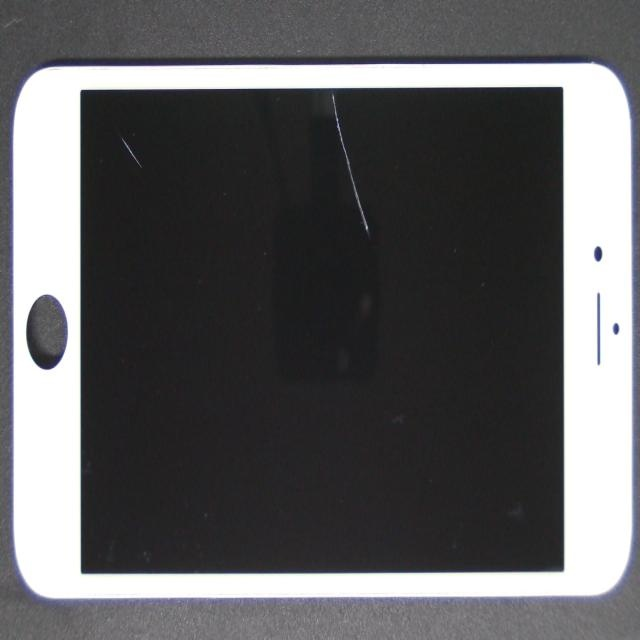scratch: (169, 161, 564, 372), (54, 16, 179, 198)
